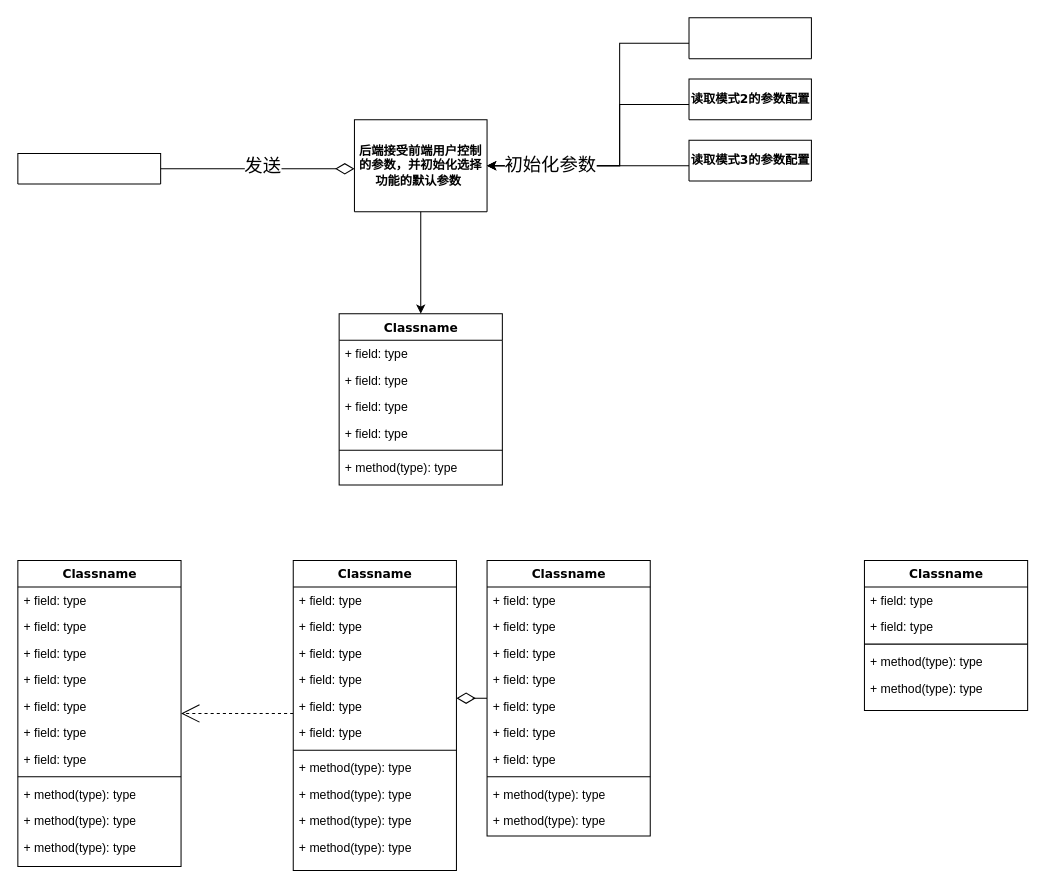
Some shapes in this 1046 by 888 pixel diagram are drawn without their labels. Each missing label, with the centre of its shape:
"前端用户控制参数" goes at point (89, 168).
"读取模式1的参数配置" goes at point (749, 38).
